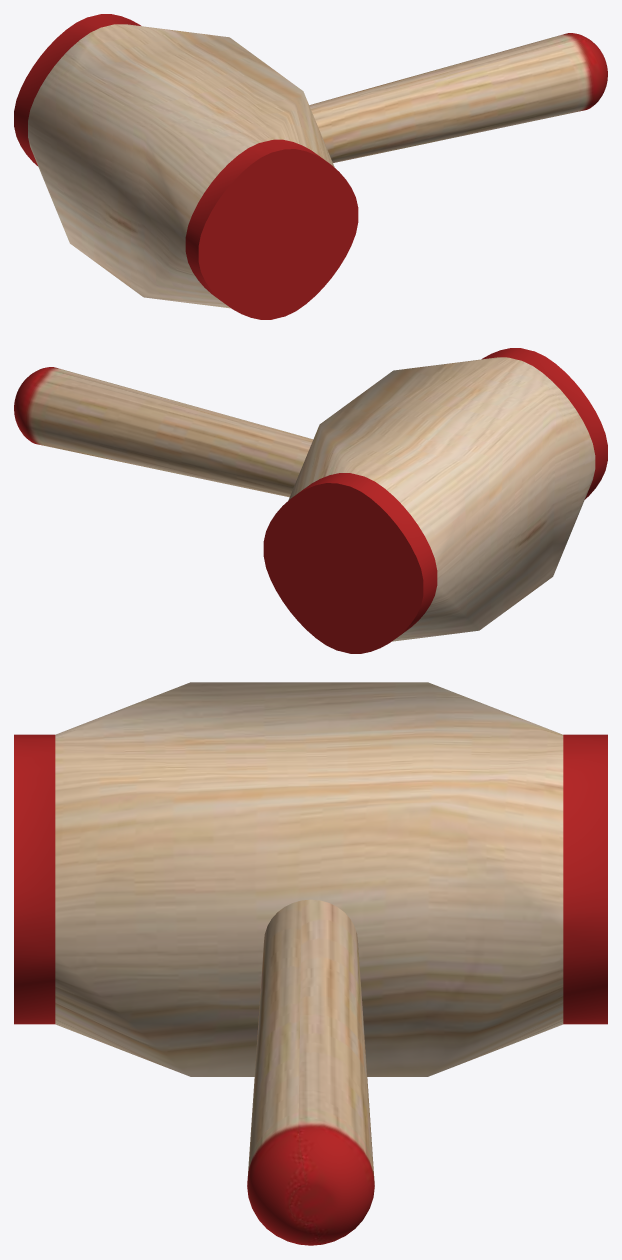
Rendered from Mazo.fbx_Collection.fbx.
3 views of the same model, one above another, from view 1: azimuth 30°, elevation 25°; view 2: azimuth 150°, elevation 25°; view 3: azimuth 270°, elevation 25° (orthographic). The views are drawn at different scales.
Visible parts, largest first — view 1: MAZO, Mango; view 2: MAZO, Mango; view 3: MAZO, Mango.
Part boxes in pixels (x1,y1,x2,y2): MAZO: (14,14,358,319); Mango: (309,33,607,162); MAZO: (263,348,607,653); Mango: (14,367,313,497); MAZO: (14,682,607,1076); Mango: (247,899,374,1245).
Size of the model in its own units: 618 by 200 by 400.
Materials: 1 (1 with a texture image).
